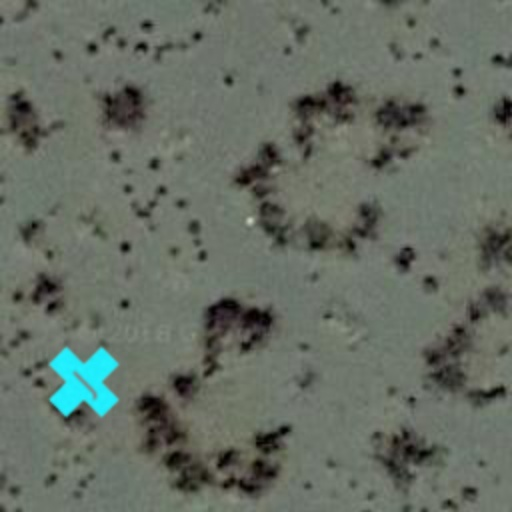cross: (30, 328, 138, 436)
